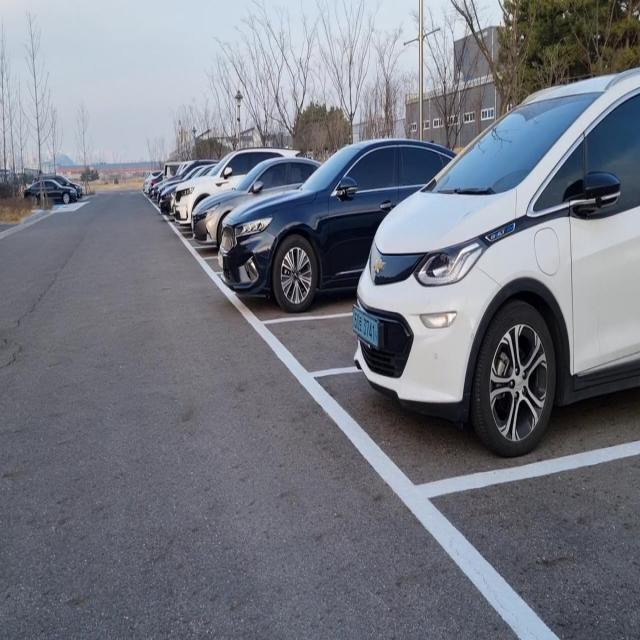empty: (246, 256, 348, 387)
occupied: (320, 104, 632, 491), (214, 166, 369, 320)
